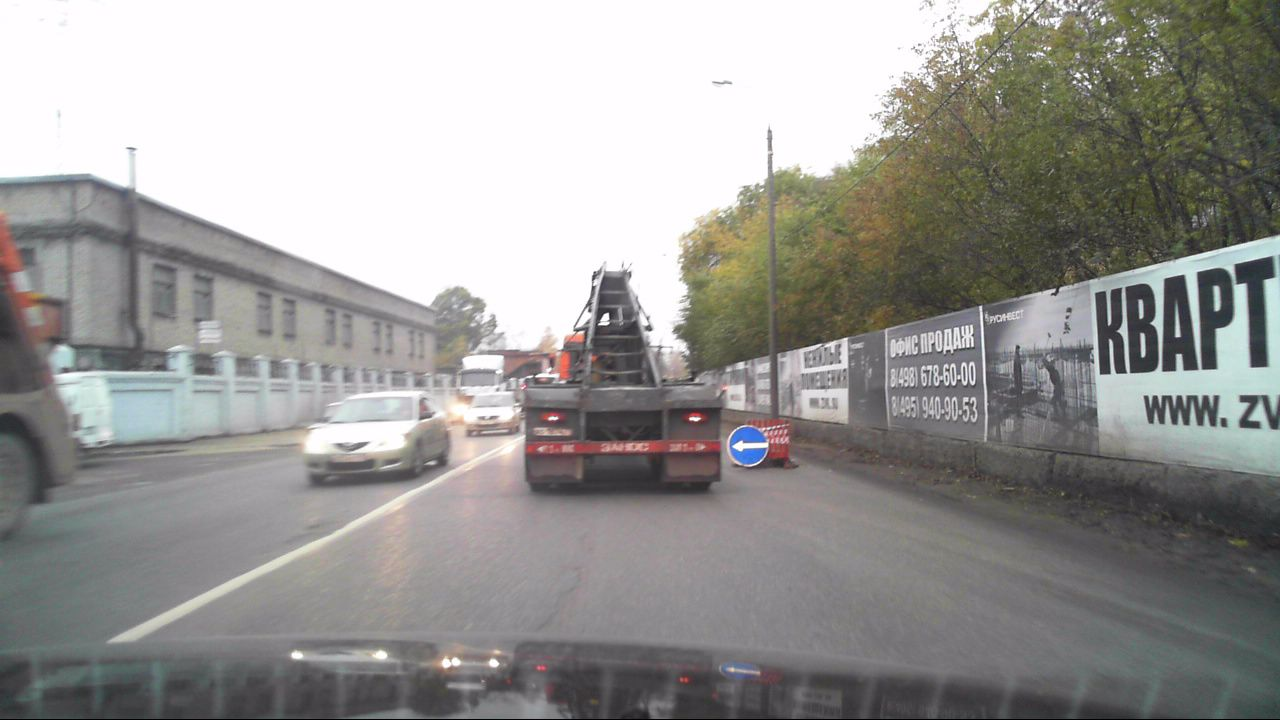Turn Left: (727, 425, 768, 467)
